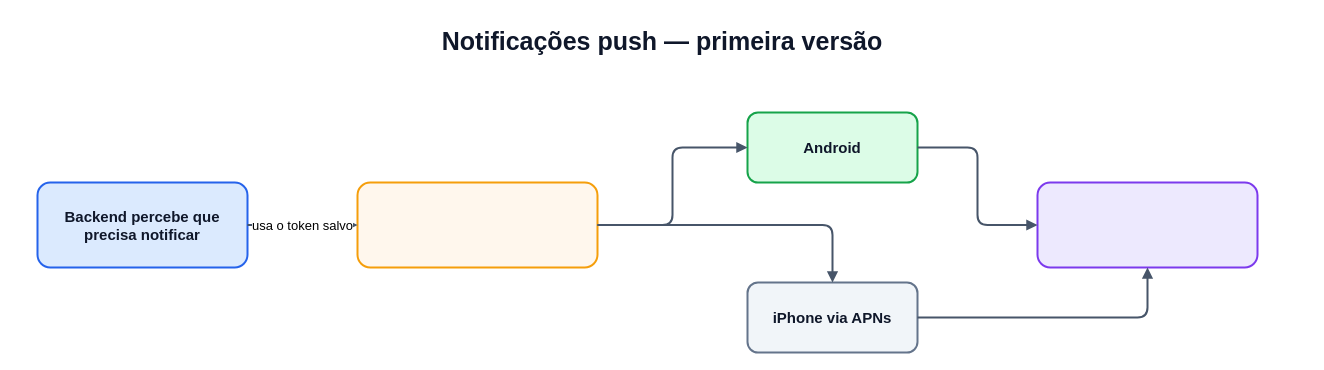
Some shapes in this 1324 by 370 pixel diagram are drawn without their labels. The centre of each missing label's shape, as x and y in pixels:
Firebase Cloud Messaging envia a notificação: pixel 477 224
Notificação aparece no celular: pixel 1147 224
